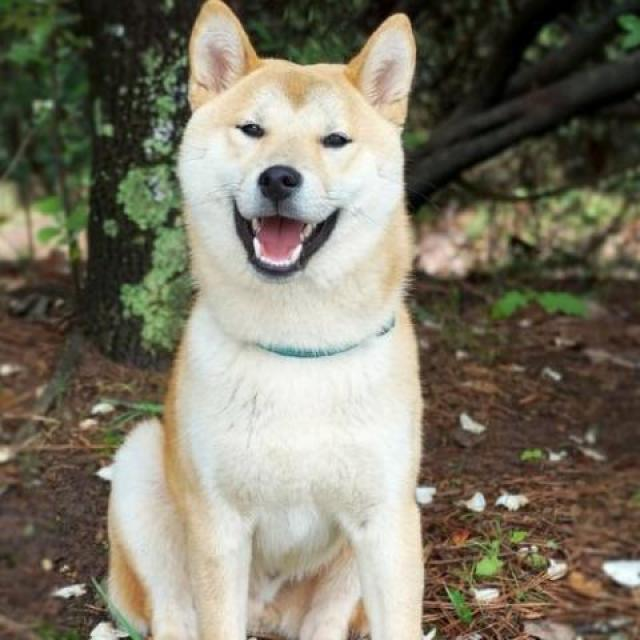Dog: (168, 0, 430, 309)
